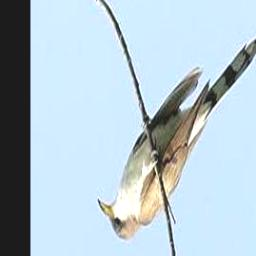Cuckoo: (99, 39, 256, 239)
